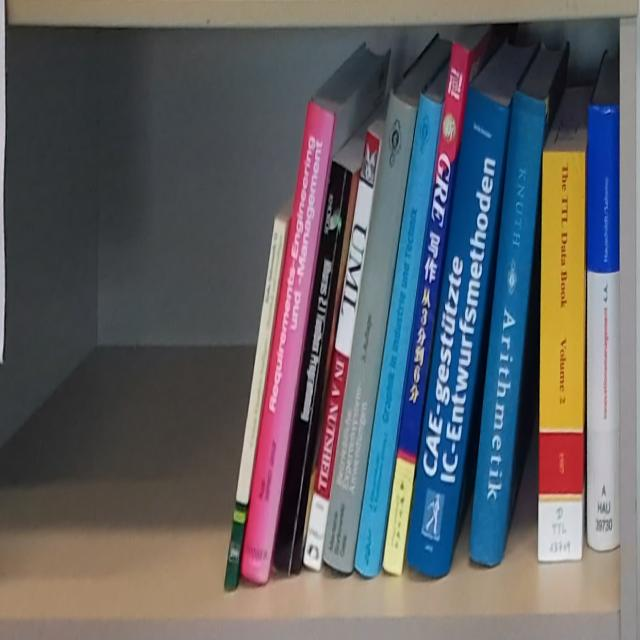Book Spine: (407, 83, 509, 579), (382, 40, 470, 578), (241, 99, 335, 585), (323, 90, 416, 573), (354, 89, 442, 578), (471, 86, 548, 566), (304, 128, 382, 571), (274, 161, 353, 575), (226, 216, 291, 589), (538, 150, 587, 561), (587, 103, 620, 552)
